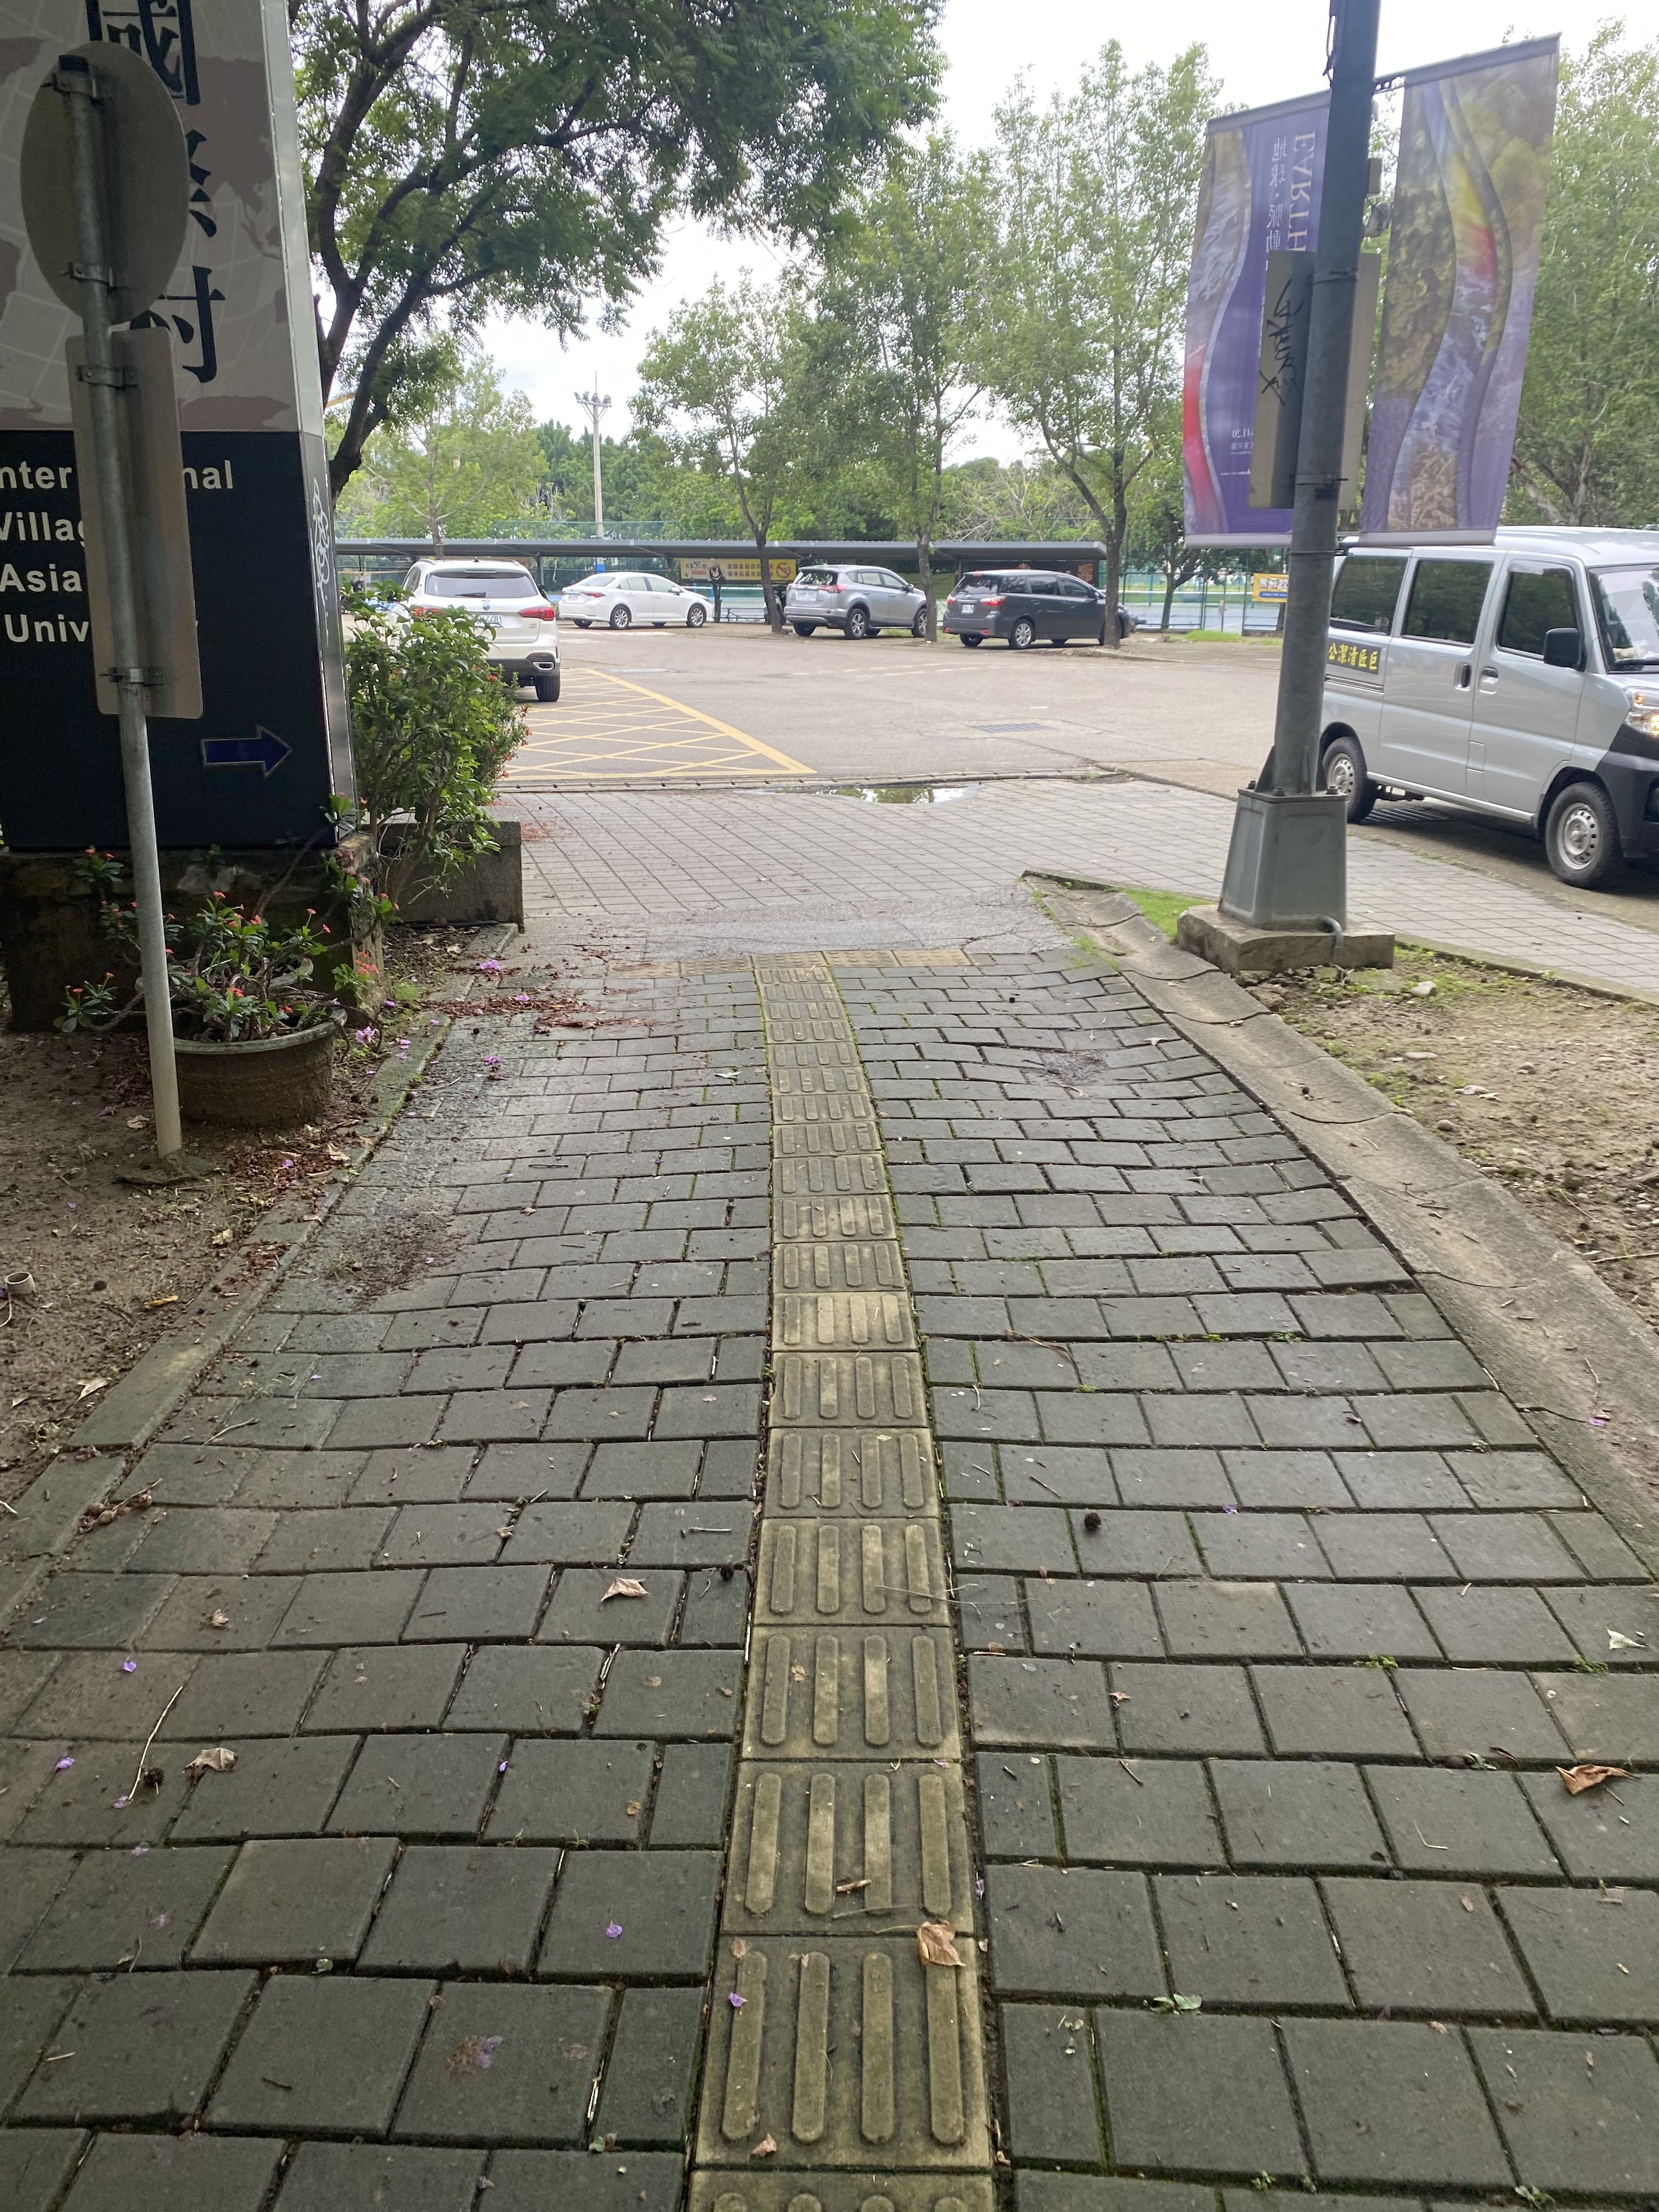sidewalk: (0, 747, 1659, 2212)
